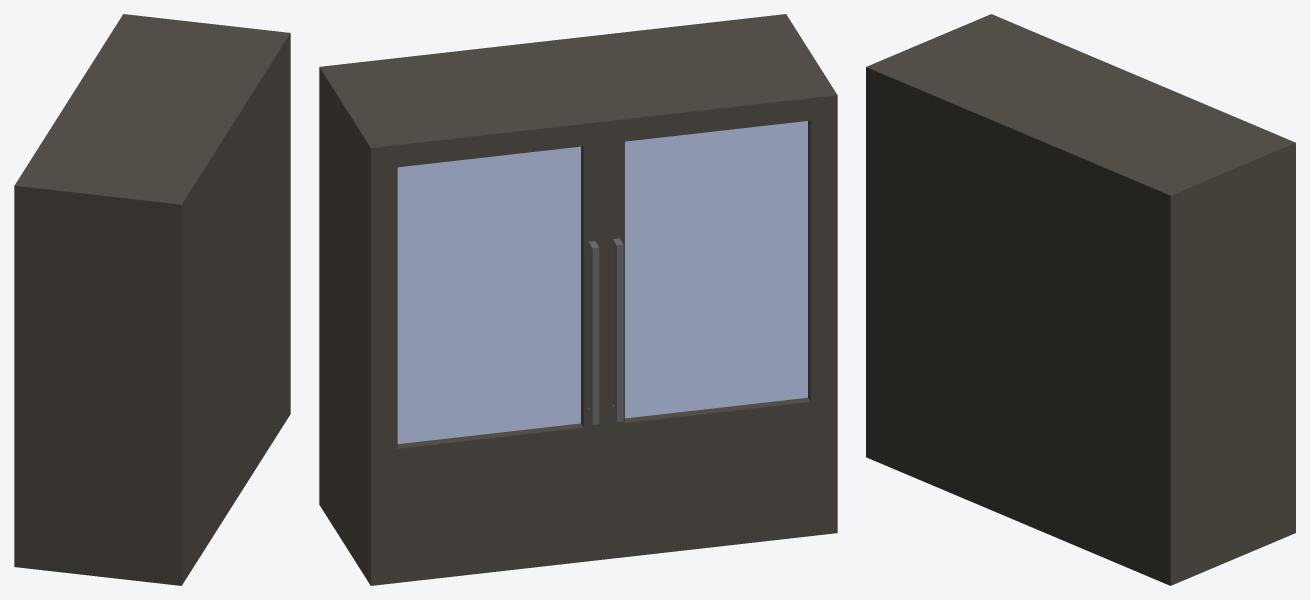
Rendered from Door.fbx.
3 renders of one model, left to right at view 1: azimuth 30°, elevation 25°; view 2: azimuth 150°, elevation 25°; view 3: azimuth 270°, elevation 25°, orthographic. The views are drawn at different scales.
Visible parts, largest first — view 1: polySurface1262; view 2: polySurface1262; view 3: polySurface1262.
Part boxes in pixels (bbox=[...]): polySurface1262: bbox=[14, 14, 290, 585]; polySurface1262: bbox=[319, 14, 837, 585]; polySurface1262: bbox=[866, 14, 1295, 585].
Bounding box in the file's own units: 200 × 200 × 200.
